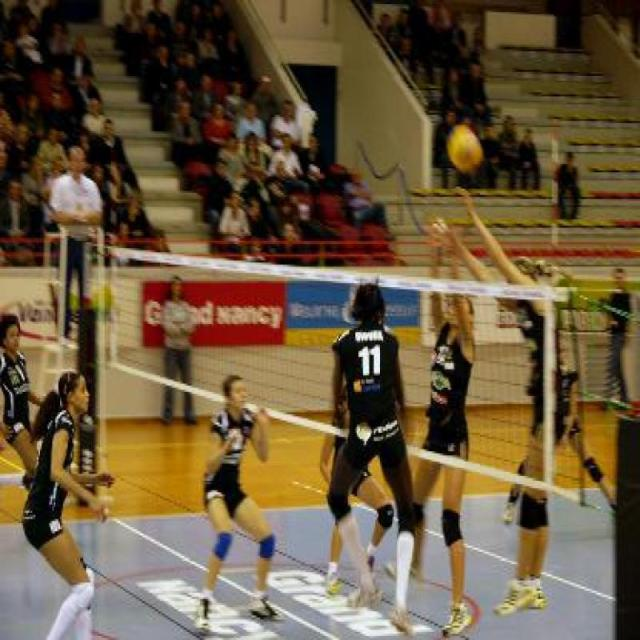volleyball: (444, 124, 482, 174)
